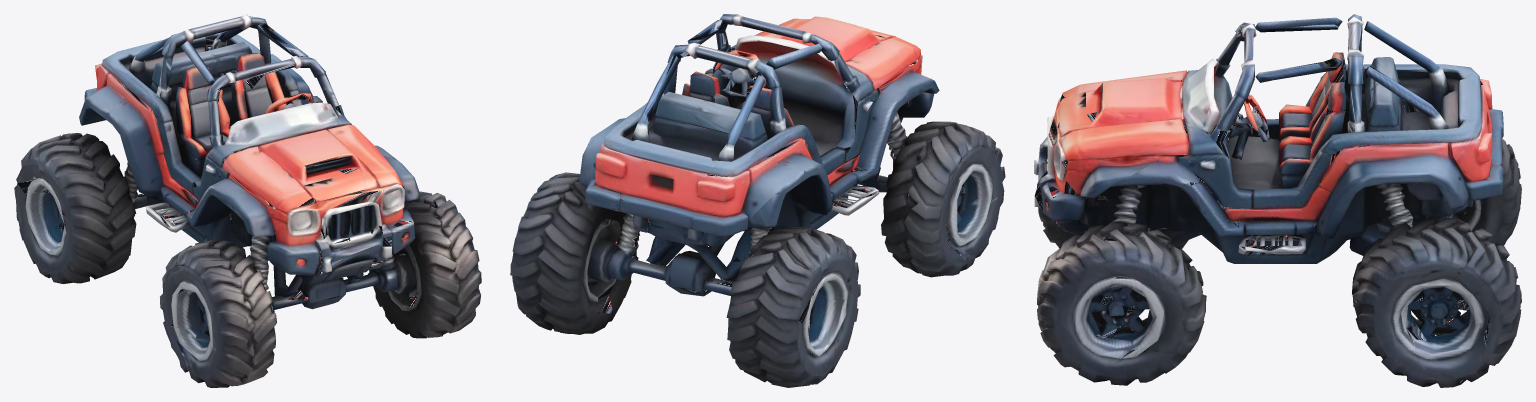
The model's file is titan-mobile.glb.
3 renders of one model, left to right at view 1: azimuth 30°, elevation 25°; view 2: azimuth 150°, elevation 25°; view 3: azimuth 270°, elevation 25°, orthographic. The views are drawn at different scales.
Visible parts, largest first — view 1: model; view 2: model; view 3: model.
Part boxes in pixels (x1=…): model: x1=14, y1=14, x2=481, y2=387; model: x1=510, y1=14, x2=1005, y2=387; model: x1=1034, y1=14, x2=1521, y2=387.
Size of the model in its own units: 1.36 by 1.23 by 1.89.
1 material, 1 textured.
